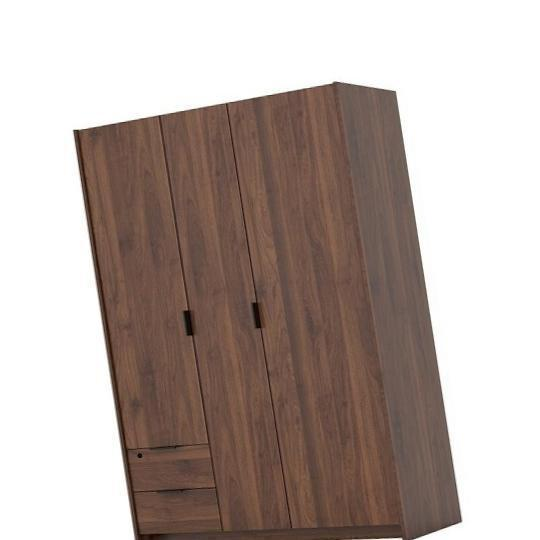Armario: (67, 76, 465, 533)
